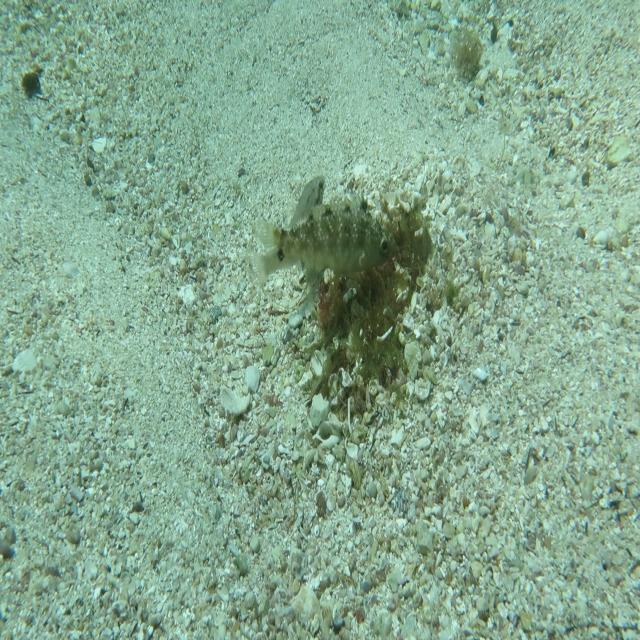INSF: (232, 188, 400, 294)
core_nest: (381, 226, 423, 270)
female: (255, 172, 328, 246)
nest: (301, 168, 454, 424)
